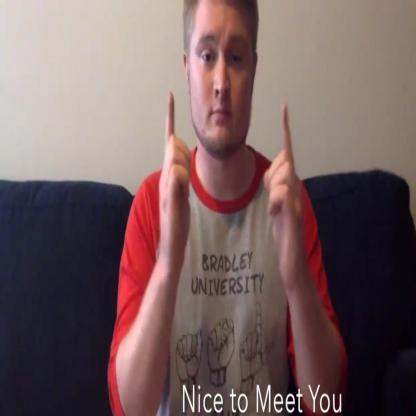NiceToMeetYou: (150, 78, 310, 284)
